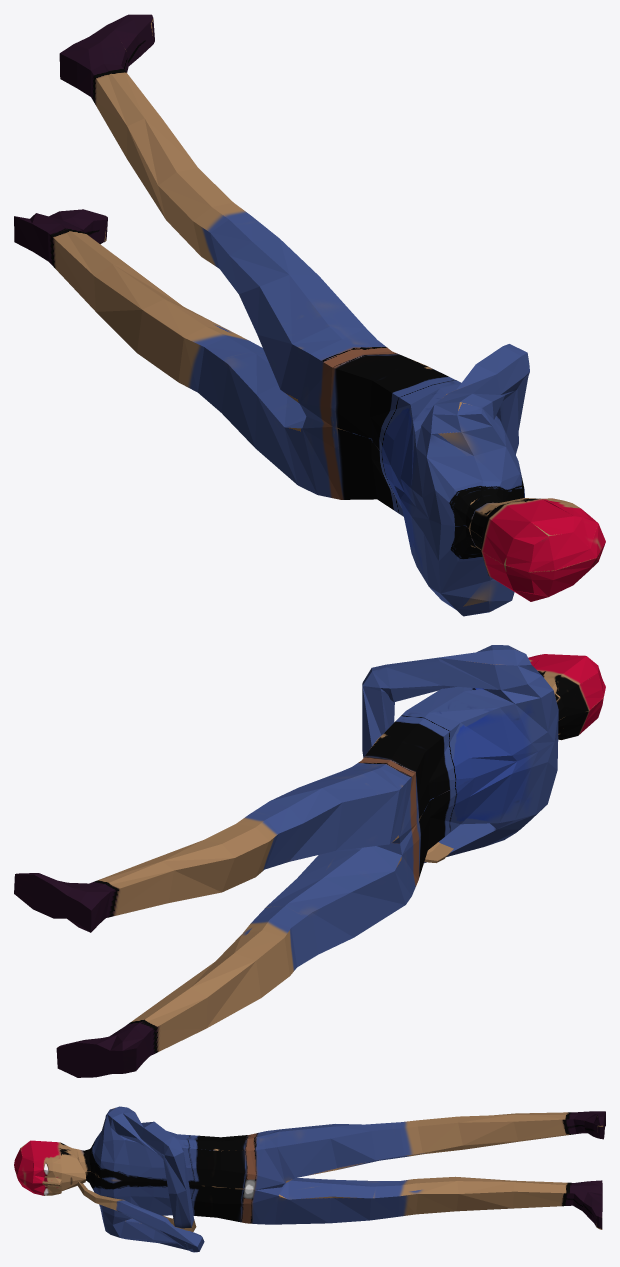
File: mirrorman_000028.obj
3 views of the same model, one above another, from view 1: azimuth 30°, elevation 25°; view 2: azimuth 150°, elevation 25°; view 3: azimuth 270°, elevation 25° (orthographic). The views are drawn at different scales.
Visible parts, largest first — view 1: mirrorman_Cube.001_Material.001; view 2: mirrorman_Cube.001_Material.001; view 3: mirrorman_Cube.001_Material.001.
Part boxes in pixels (x1,y1,x2,y2): mirrorman_Cube.001_Material.001: (14,14,605,616); mirrorman_Cube.001_Material.001: (14,645,605,1077); mirrorman_Cube.001_Material.001: (14,1106,605,1252).
Bounding box in the file's own units: 0.3545 × 0.5108 × 1.9.
Materials: 1 (1 with a texture image).
